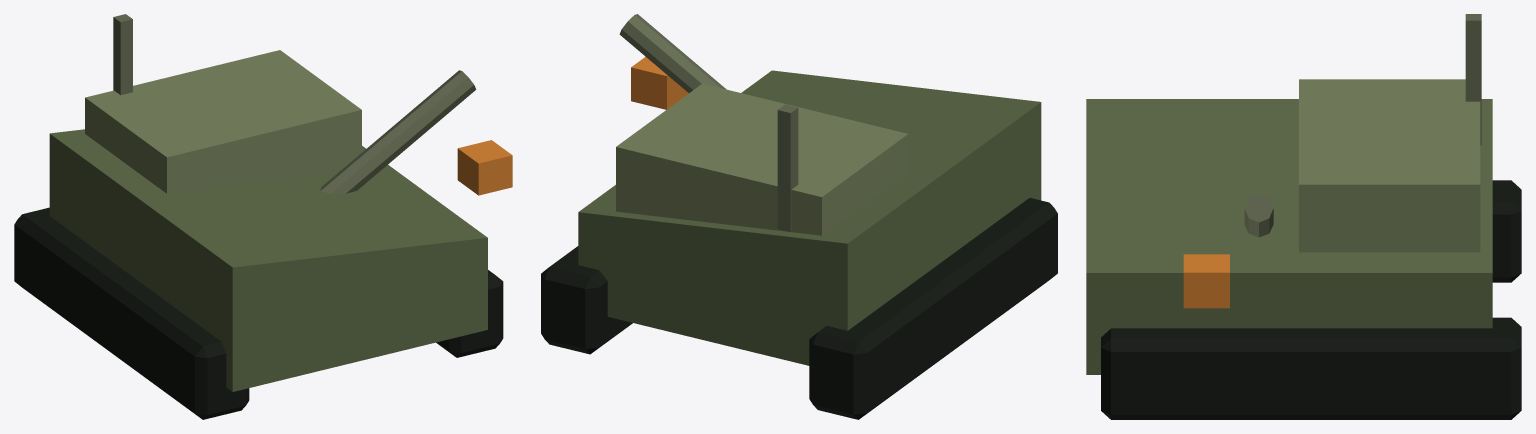
The model's file is repairCrawler.obj.
3 views of the same model, side by side, from view 1: azimuth 30°, elevation 25°; view 2: azimuth 150°, elevation 25°; view 3: azimuth 270°, elevation 25° (orthographic). The views are drawn at different scales.
Visible parts, largest first — view 1: Body.006; view 2: Body.006; view 3: Body.006.
Part boxes in pixels (left/top/right/bottom): Body.006: left=14, top=14, right=512, bottom=419; Body.006: left=541, top=14, right=1057, bottom=419; Body.006: left=1086, top=14, right=1521, bottom=419.
Size of the model in its own units: 7.57 by 5.4 by 7.35.
1 material, 1 textured.
